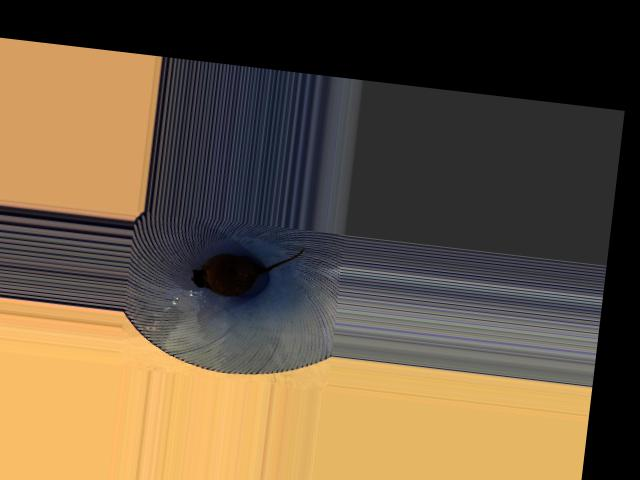beet: (189, 235, 303, 303)
